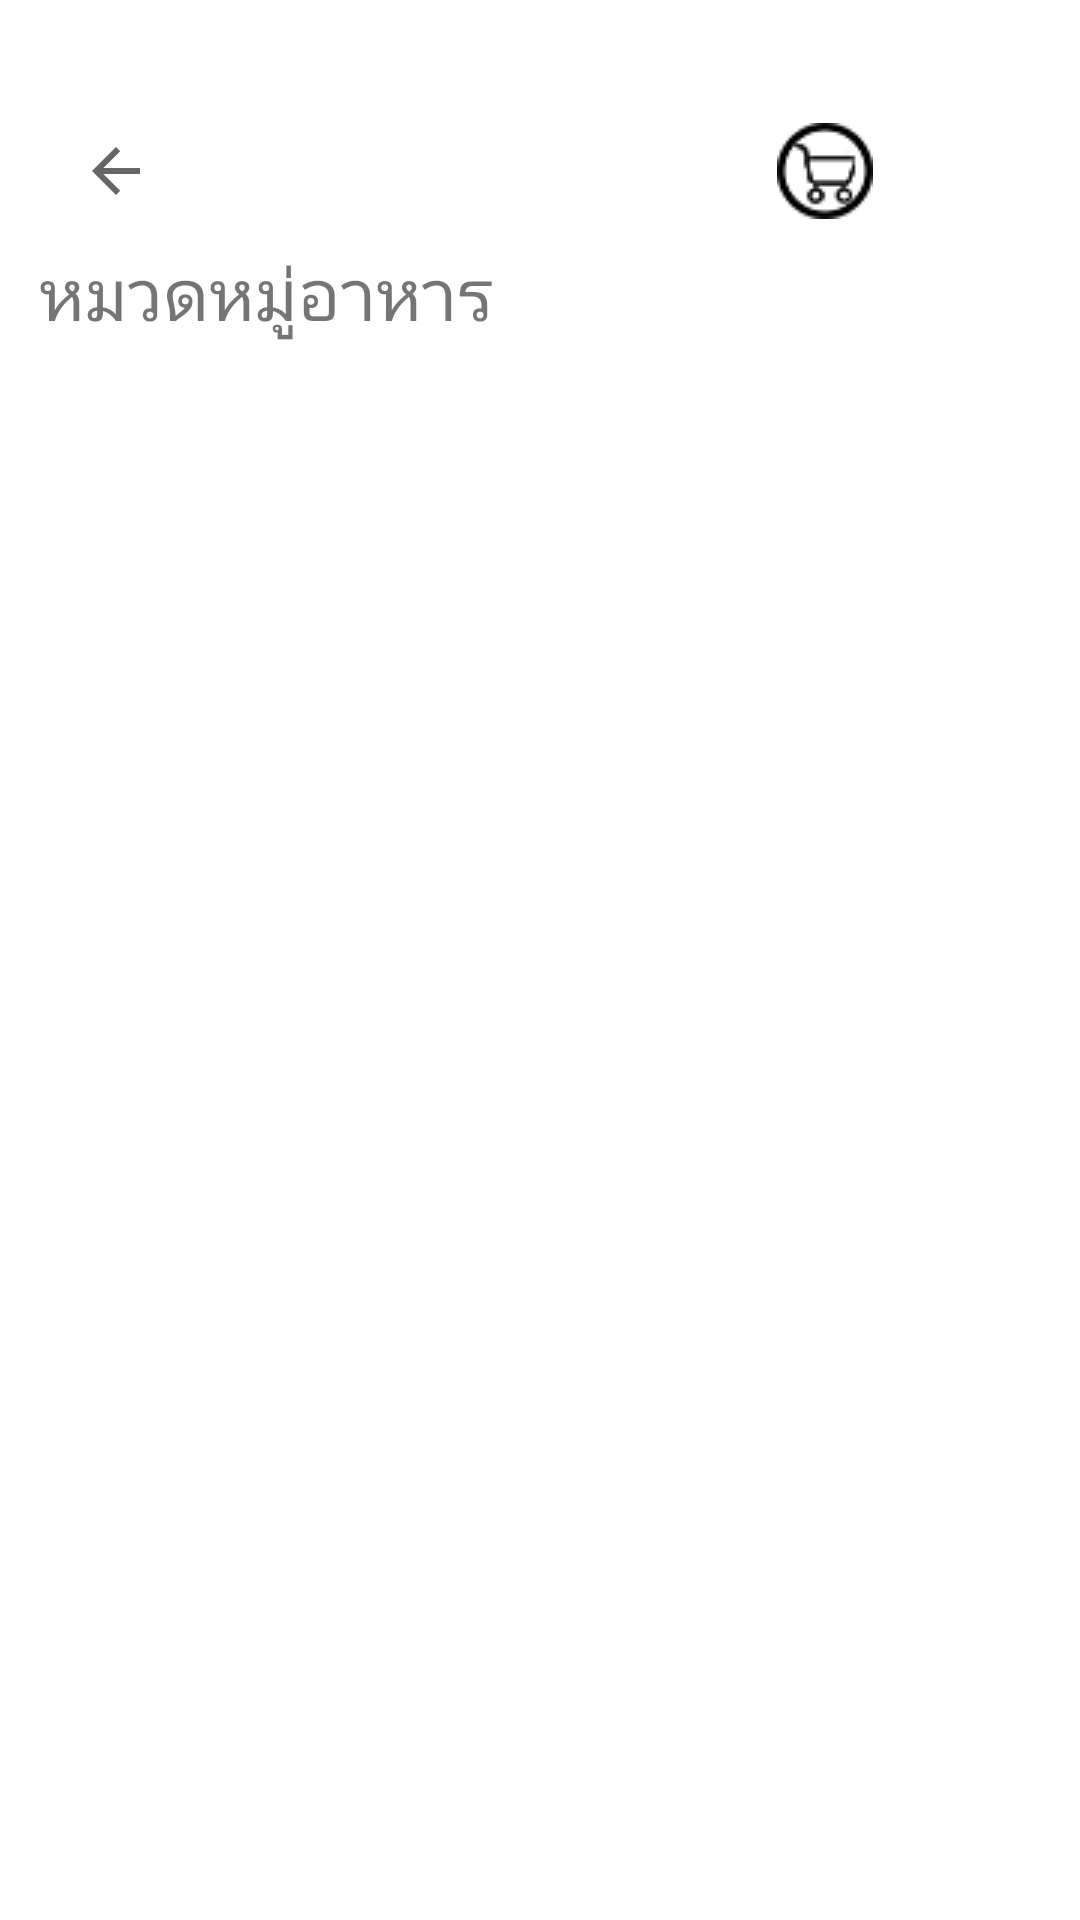

Point at icon controls on the screen. Image size 1080 x 1920, points as [x,y].
cartbutton: [825,171]
